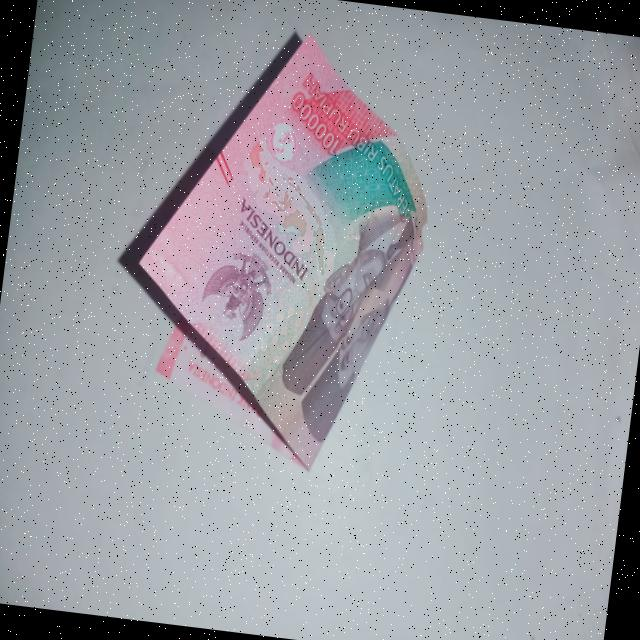100K: (89, 12, 458, 486)
